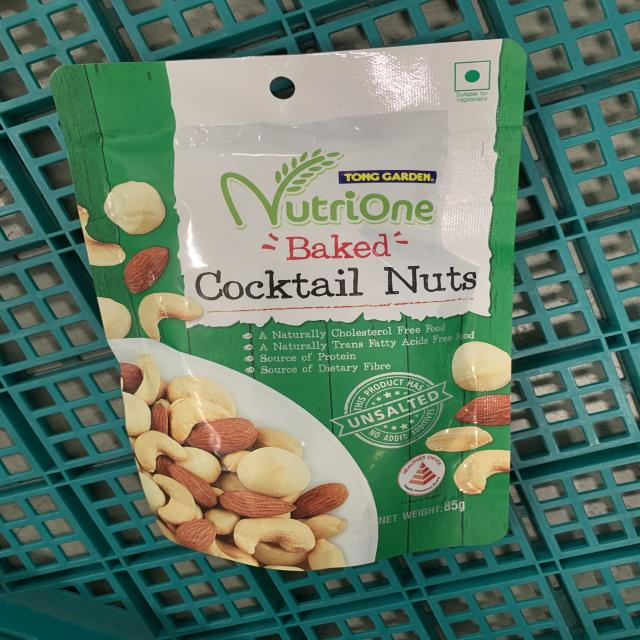object_name: (55, 58, 515, 566)
